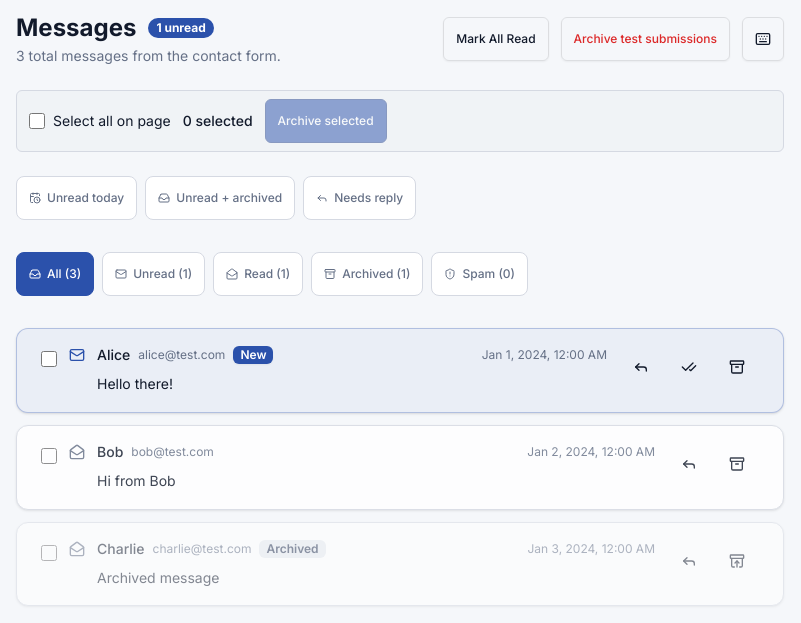
Test: MessagesViewer › selects every message on the current page via the toolbar checkbox
This screenshot has width=801, height=623.
Expected: the text "Alice" is shown, [97,345,130,365]
Expected: the text "0 selected" is shown, [183,111,253,131]
Click the checkbox labelled "Select all on page" at point(37, 121), box [29,113,45,129]
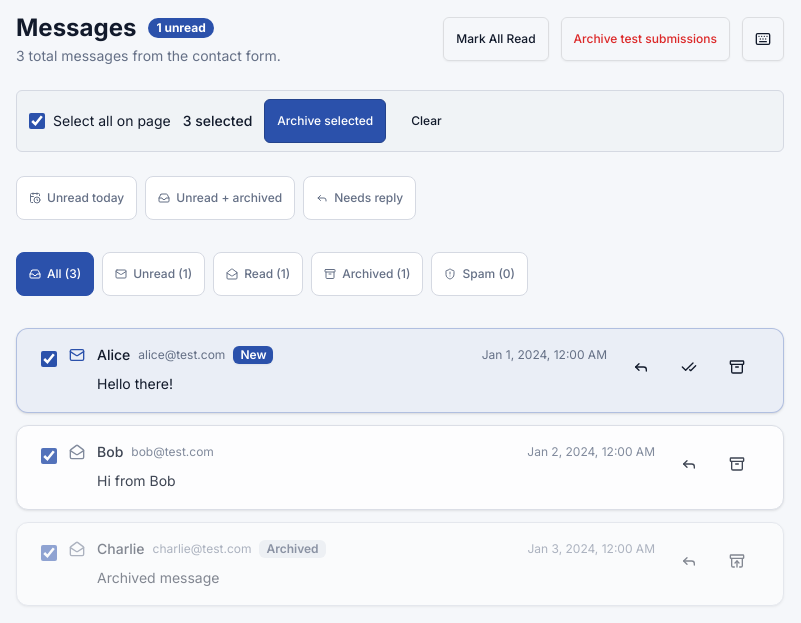
Expected: the checkbox named "Select message from Alice" is checked, [41,351,57,367]
Expected: the checkbox named "Select message from Bob" is checked, [41,448,57,464]
Expected: the checkbox named "Select message from Charlie" is checked, [41,544,57,560]
